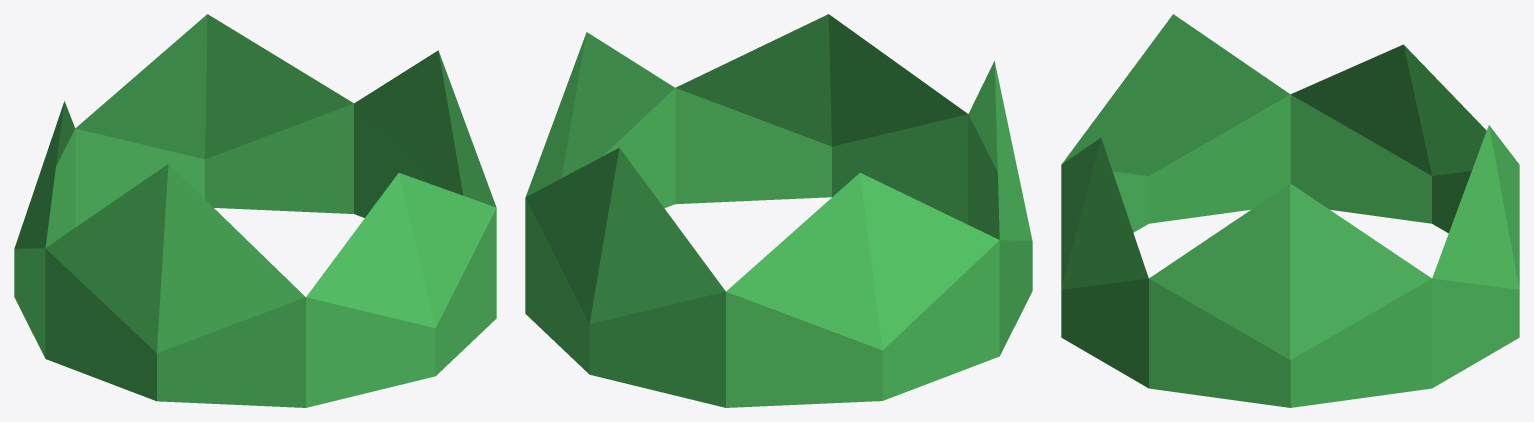
Rendered from Party_Hat_Green.glb.
3 renders of one model, left to right at view 1: azimuth 30°, elevation 25°; view 2: azimuth 150°, elevation 25°; view 3: azimuth 270°, elevation 25°, orthographic. The views are drawn at different scales.
Parts seen in each view (by area): view 1: PartyHat; view 2: PartyHat; view 3: PartyHat.
Part boxes in pixels (x1,y1,x2,y2): PartyHat: [14, 14, 496, 407]; PartyHat: [525, 14, 1032, 407]; PartyHat: [1061, 14, 1519, 407].
Size of the model in its own units: 0.32 by 0.1622 by 0.3043.
